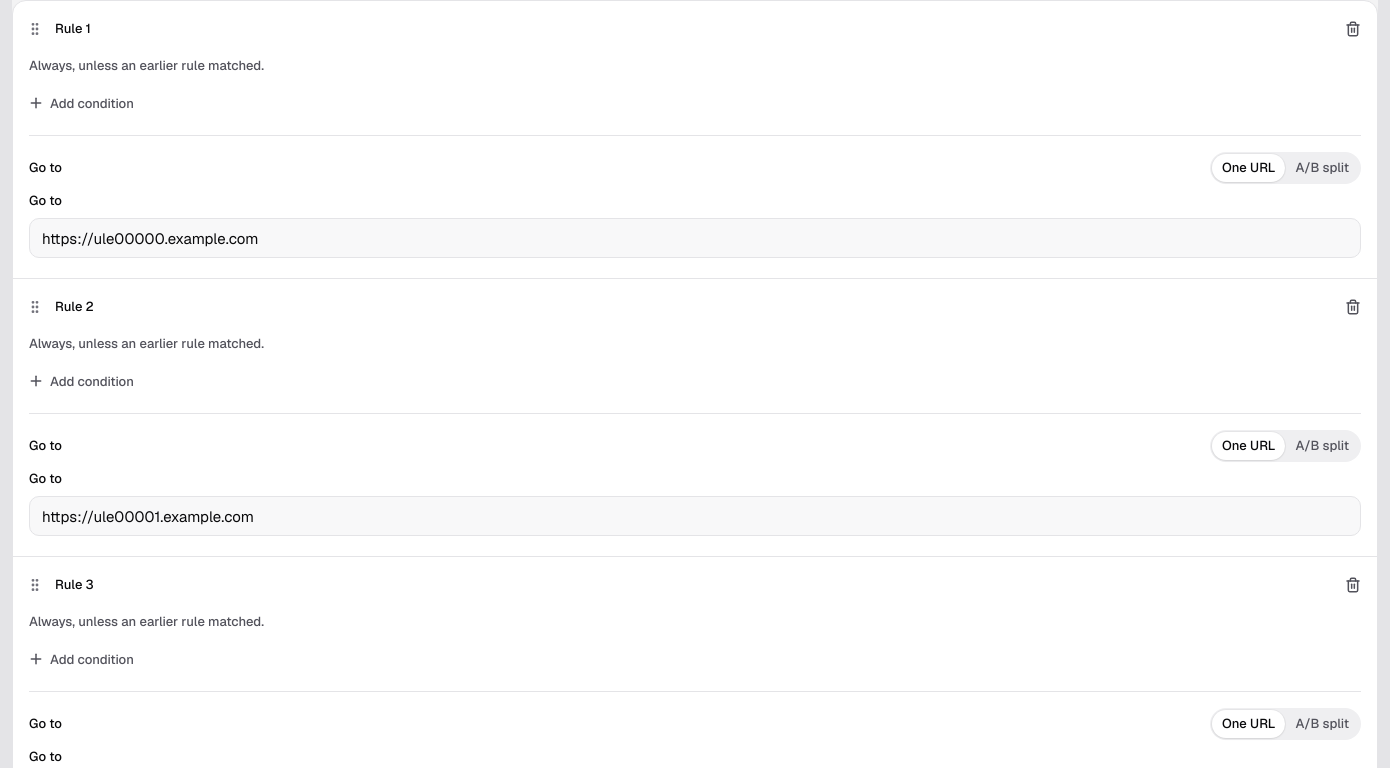
Test: RulesEditor › disables Add rule at 20 rules
Step 1. Click the button named "Remove rule 1" → (1353, 29), box [1337, 13, 1369, 45]
(page scrolled)
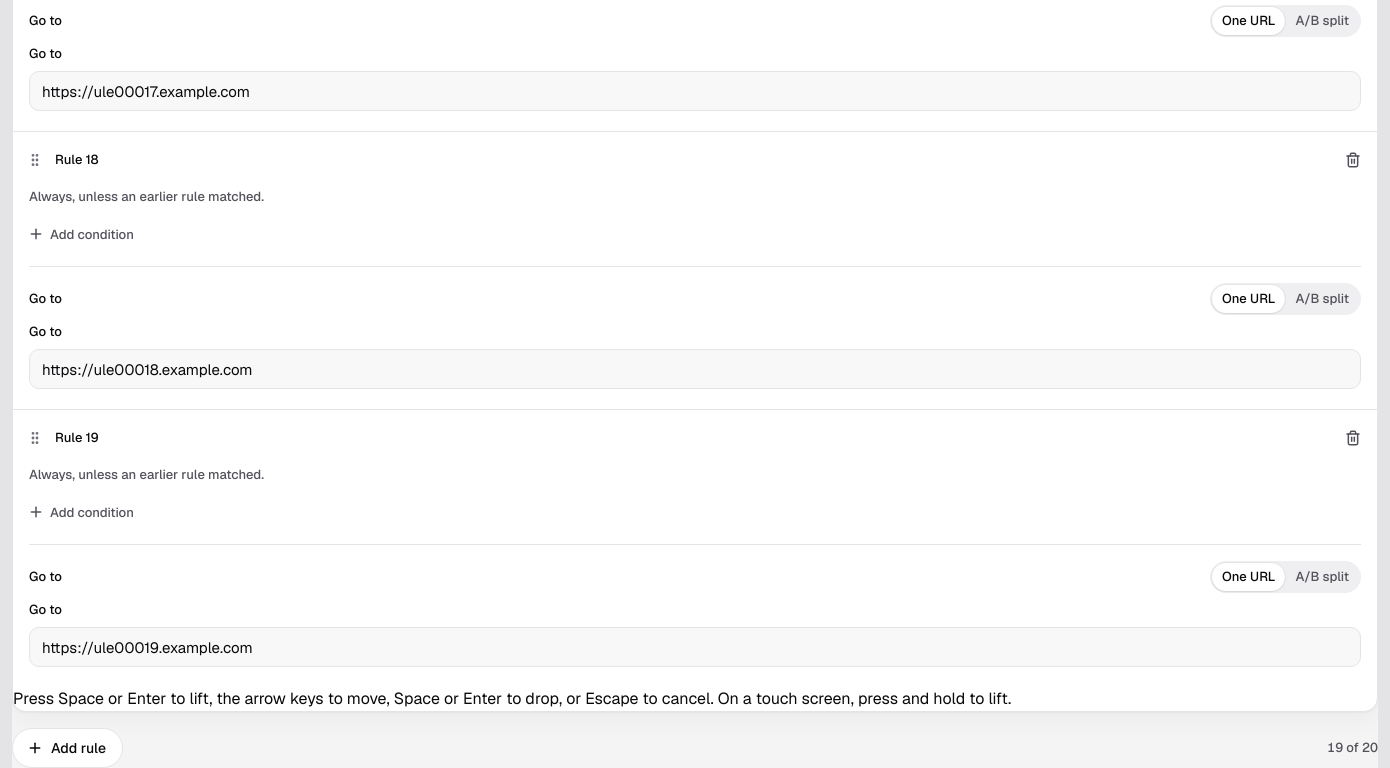
Result: the button "Add rule" is enabled at [12, 728, 123, 767]
